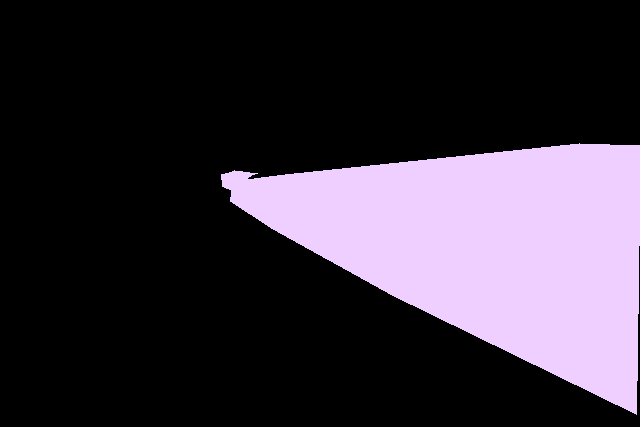Train: (230, 143, 640, 414), (221, 170, 258, 196)
